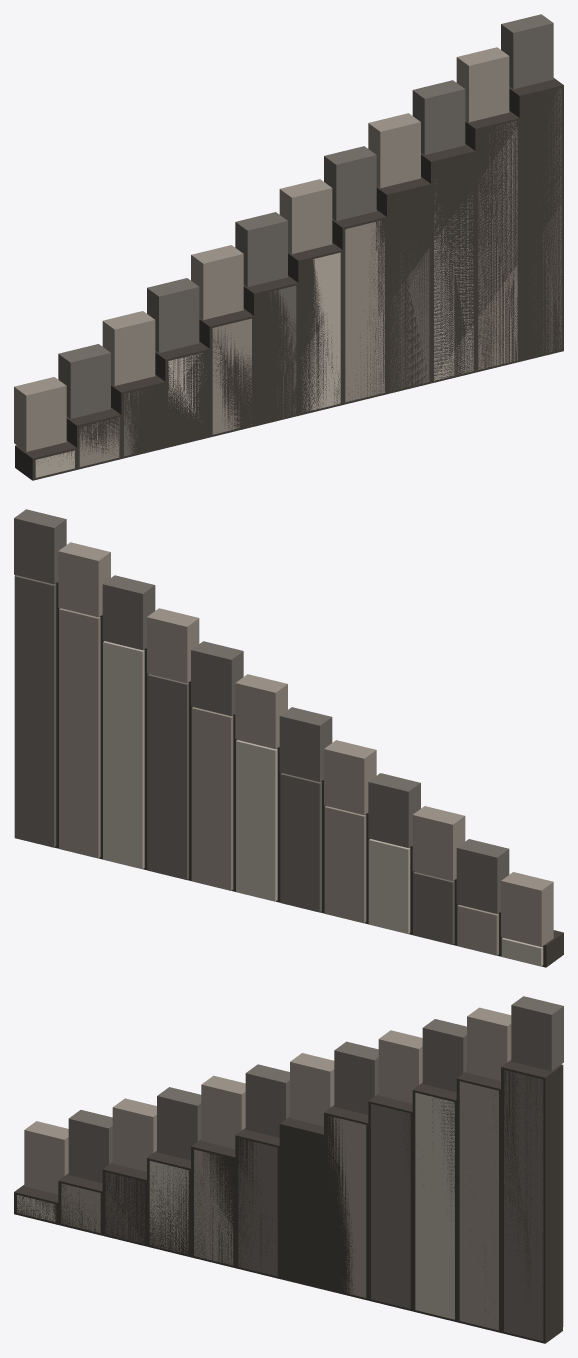
The model's file is lance_de_escada.glb.
3 views of the same model, one above another, from view 1: azimuth 30°, elevation 25°; view 2: azimuth 150°, elevation 25°; view 3: azimuth 330°, elevation 25° (orthographic).
Parts seen in each view (by area): view 1: Junta_11, Junta_10, Junta_9, Junta_8, Degrau_7, Degrau_10, Junta_5, Junta_6, Degrau_6, Junta_3, Junta_4, Degrau_9 (+24 smaller); view 2: Degrau_11, Degrau_10, Degrau_9, Degrau_8, Degrau_7, Degrau_6, Degrau_5, Degrau_4, Degrau_3, Mureta_0, Mureta_5, Mureta_9 (+17 smaller); view 3: Degrau_11, Degrau_10, Junta_11, Degrau_9, Degrau_8, Junta_6, Junta_7, Degrau_5, Degrau_7, Degrau_4, Junta_4, Mureta_11 (+23 smaller).
Boxes of the visible parts, bbox=[...] form: Junta_11: bbox=[509, 78, 563, 361]; Junta_10: bbox=[465, 111, 519, 372]; Junta_9: bbox=[421, 144, 475, 383]; Junta_8: bbox=[376, 177, 430, 394]; Degrau_7: bbox=[345, 221, 384, 402]; Degrau_10: bbox=[478, 121, 517, 369]; Junta_5: bbox=[243, 275, 298, 426]; Junta_6: bbox=[288, 243, 342, 415]; Degrau_6: bbox=[301, 252, 340, 411]; Junta_3: bbox=[155, 341, 209, 448]; Junta_4: bbox=[199, 308, 253, 437]; Degrau_9: bbox=[434, 179, 473, 380]; Degrau_11: bbox=[14, 575, 56, 847]; Degrau_10: bbox=[59, 608, 100, 858]; Degrau_9: bbox=[103, 641, 144, 869]; Degrau_8: bbox=[147, 674, 188, 879]; Degrau_7: bbox=[191, 707, 233, 890]; Degrau_6: bbox=[236, 740, 277, 901]; Degrau_5: bbox=[280, 773, 321, 912]; Degrau_4: bbox=[324, 806, 366, 923]; Degrau_3: bbox=[368, 839, 410, 933]; Mureta_0: bbox=[501, 872, 553, 946]; Mureta_5: bbox=[279, 707, 332, 781]; Mureta_9: bbox=[102, 575, 155, 650]; Degrau_11: bbox=[504, 1064, 563, 1340]; Degrau_10: bbox=[459, 1081, 498, 1330]; Junta_11: bbox=[501, 1060, 562, 1343]; Degrau_9: bbox=[415, 1092, 454, 1319]; Degrau_8: bbox=[371, 1104, 410, 1308]; Junta_6: bbox=[279, 1116, 323, 1289]; Junta_7: bbox=[324, 1105, 368, 1300]; Degrau_5: bbox=[238, 1138, 277, 1276]; Degrau_7: bbox=[328, 1116, 366, 1297]; Degrau_4: bbox=[194, 1149, 233, 1265]; Junta_4: bbox=[191, 1139, 235, 1267]; Mureta_11: bbox=[511, 996, 563, 1071].
Size of the model in its own units: 5.52 by 3.2 by 0.37.
